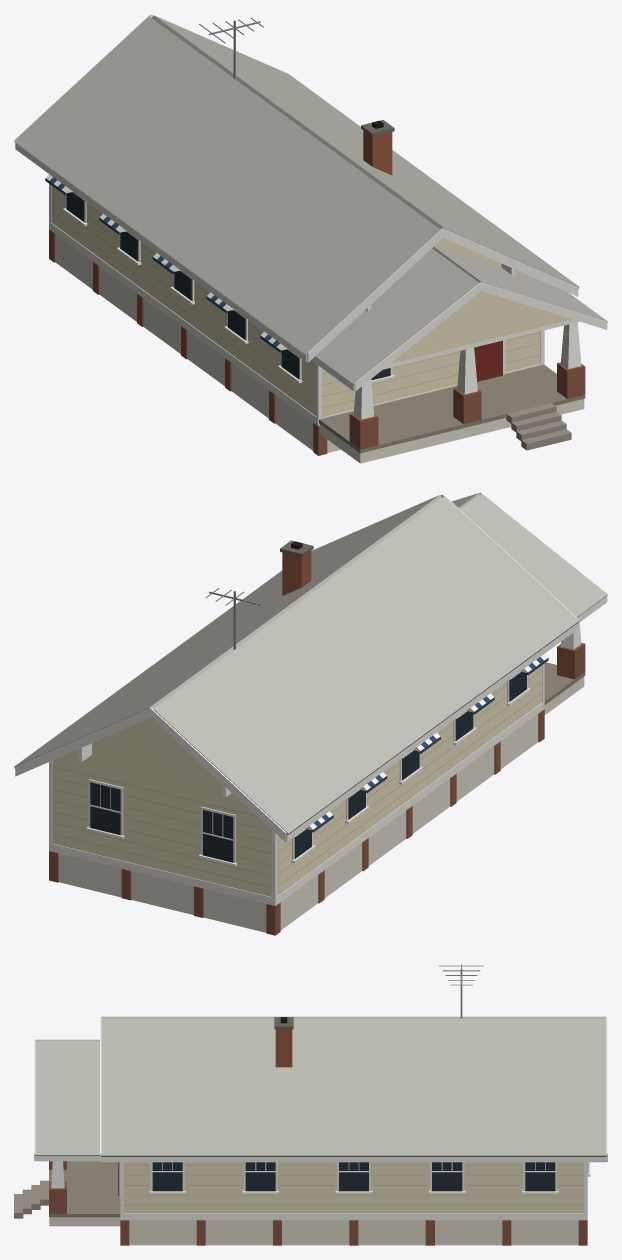
Rendered from craftsman-bungalow-0001.glb.
The picture shows the model from 3 angles, top to bottom: view 1: azimuth 30°, elevation 25°; view 2: azimuth 150°, elevation 25°; view 3: azimuth 270°, elevation 25°; orthographic projection. The views are drawn at different scales.
Visible parts, largest first — view 1: kit-craftsman-bungalow-0001; view 2: kit-craftsman-bungalow-0001; view 3: kit-craftsman-bungalow-0001.
Part boxes in pixels (x1,y1,x2,y2): kit-craftsman-bungalow-0001: (14,14,607,463); kit-craftsman-bungalow-0001: (14,492,607,935); kit-craftsman-bungalow-0001: (14,964,607,1245).
Size of the model in its own units: 9.15 by 8.39 by 19.76.
